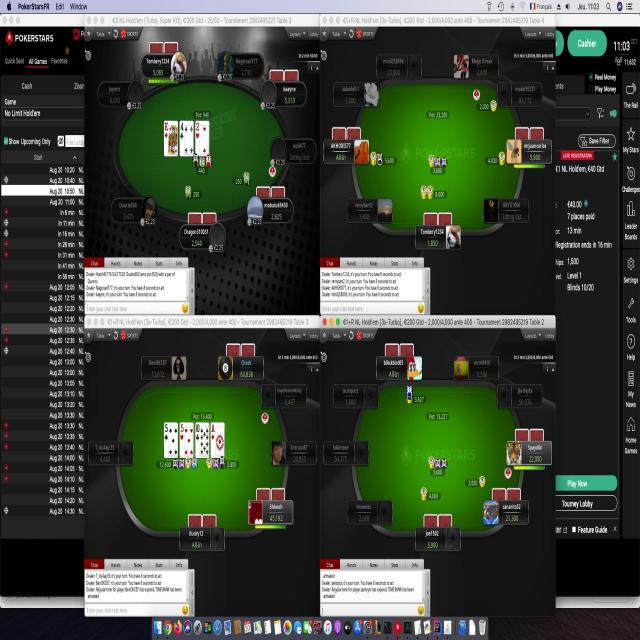10C: (194, 421, 201, 443)
2H: (195, 120, 202, 140)
4C: (180, 120, 186, 140)
5H: (178, 422, 186, 444)
5S: (164, 421, 169, 444)
AD: (210, 424, 217, 442)
KD: (162, 120, 169, 139)
